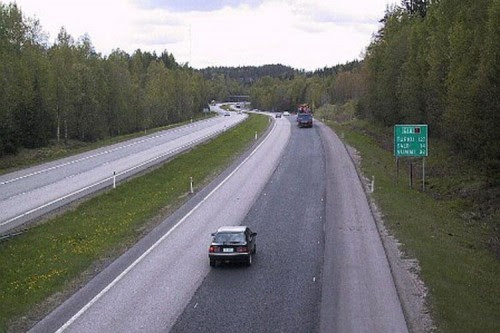car: (208, 222, 251, 270)
